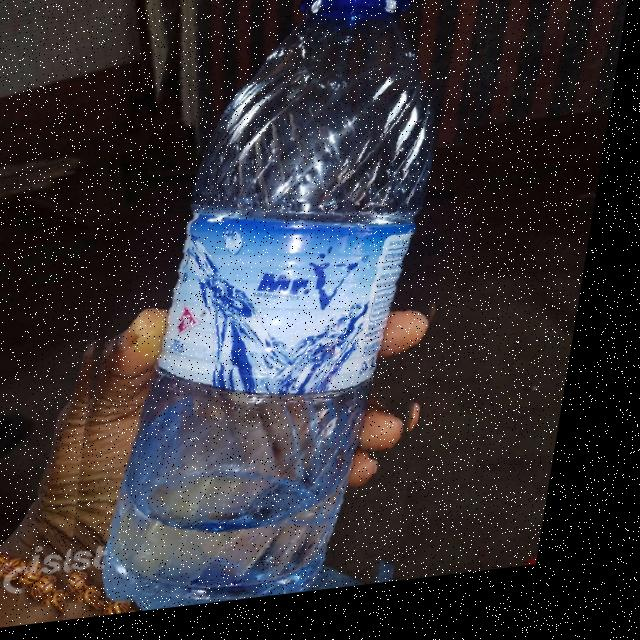plasticbottle: (52, 0, 496, 627)
